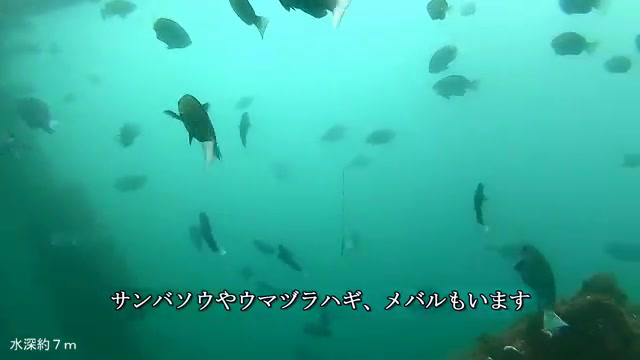smallfish: (162, 87, 237, 164), (420, 66, 478, 106), (544, 25, 596, 68), (146, 13, 191, 57), (425, 34, 463, 82)
